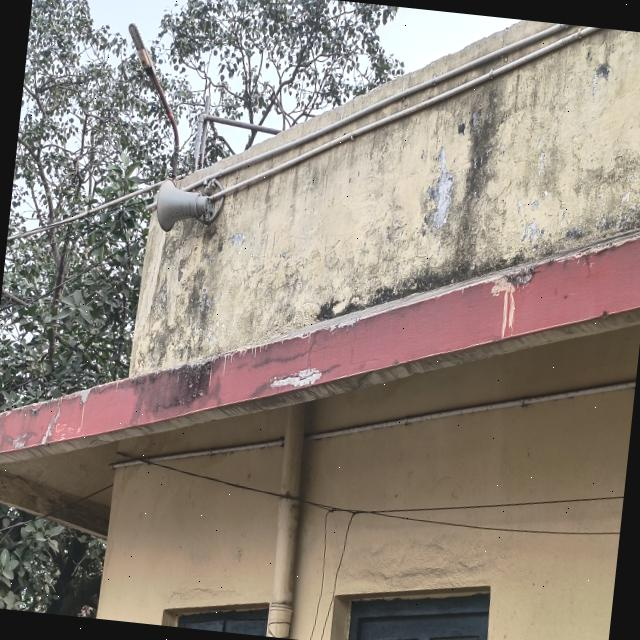crack: (270, 330, 341, 382), (354, 370, 377, 389)
peeling: (566, 168, 640, 242), (424, 147, 453, 229), (270, 368, 321, 387), (520, 216, 546, 244), (537, 136, 546, 178), (230, 232, 245, 252)
stain_mould: (314, 73, 553, 321), (126, 198, 227, 418)
